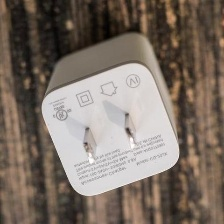three_eye_plug: (38, 25, 182, 200)
